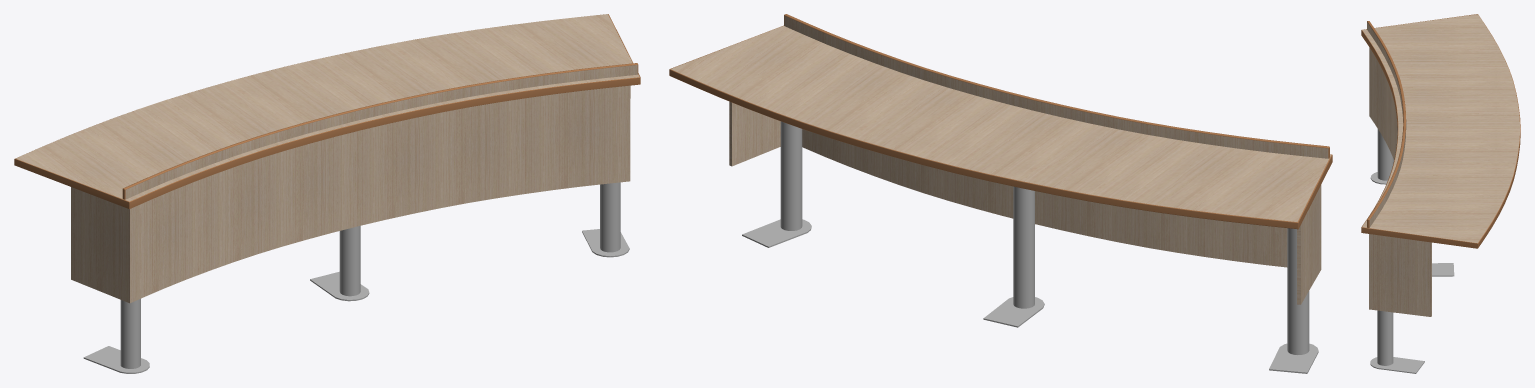
The model's file is CenterTableA.fbx.
The picture shows the model from 3 angles, left to right: view 1: azimuth 30°, elevation 25°; view 2: azimuth 150°, elevation 25°; view 3: azimuth 270°, elevation 25°; orthographic projection. The views are drawn at different scales.
Parts seen in each view (by area): view 1: CenterTableA; view 2: CenterTableA; view 3: CenterTableA.
Boxes of the visible parts, x1,y1,x2,y2 form: CenterTableA: (14,14,640,373); CenterTableA: (669,14,1332,373); CenterTableA: (1361,14,1520,373).
Size of the model in its own units: 279 by 85.24 by 81.89.
Materials: 3 (1 with a texture image).
